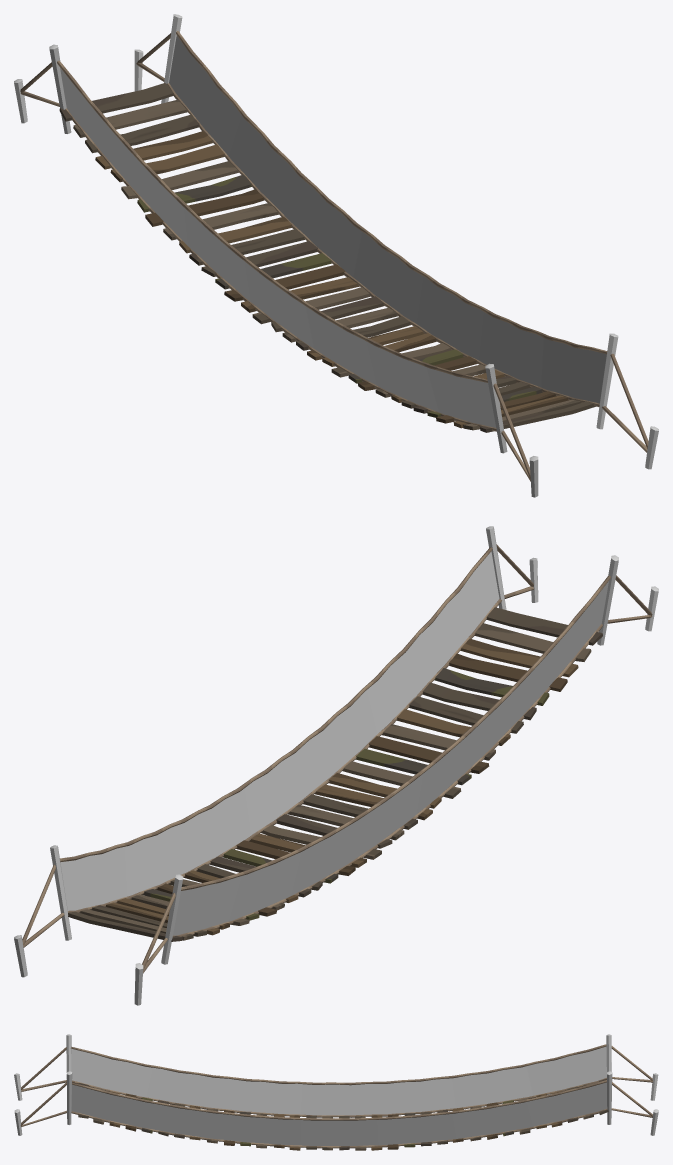
The model's file is SM_Bld_Ropebridge_02.fbx.
3 renders of one model, top to bottom at view 1: azimuth 30°, elevation 25°; view 2: azimuth 150°, elevation 25°; view 3: azimuth 270°, elevation 25°, orthographic. The views are drawn at different scales.
Parts seen in each view (by area): view 1: SM_Bld_Ropebridge_02; view 2: SM_Bld_Ropebridge_02; view 3: SM_Bld_Ropebridge_02.
Part boxes in pixels (x1=…): SM_Bld_Ropebridge_02: x1=14, y1=14, x2=658, y2=497; SM_Bld_Ropebridge_02: x1=14, y1=526, x2=658, y2=1005; SM_Bld_Ropebridge_02: x1=14, y1=1034, x2=658, y2=1150.
Bounding box in the file's own units: 258 × 242 × 1750.
